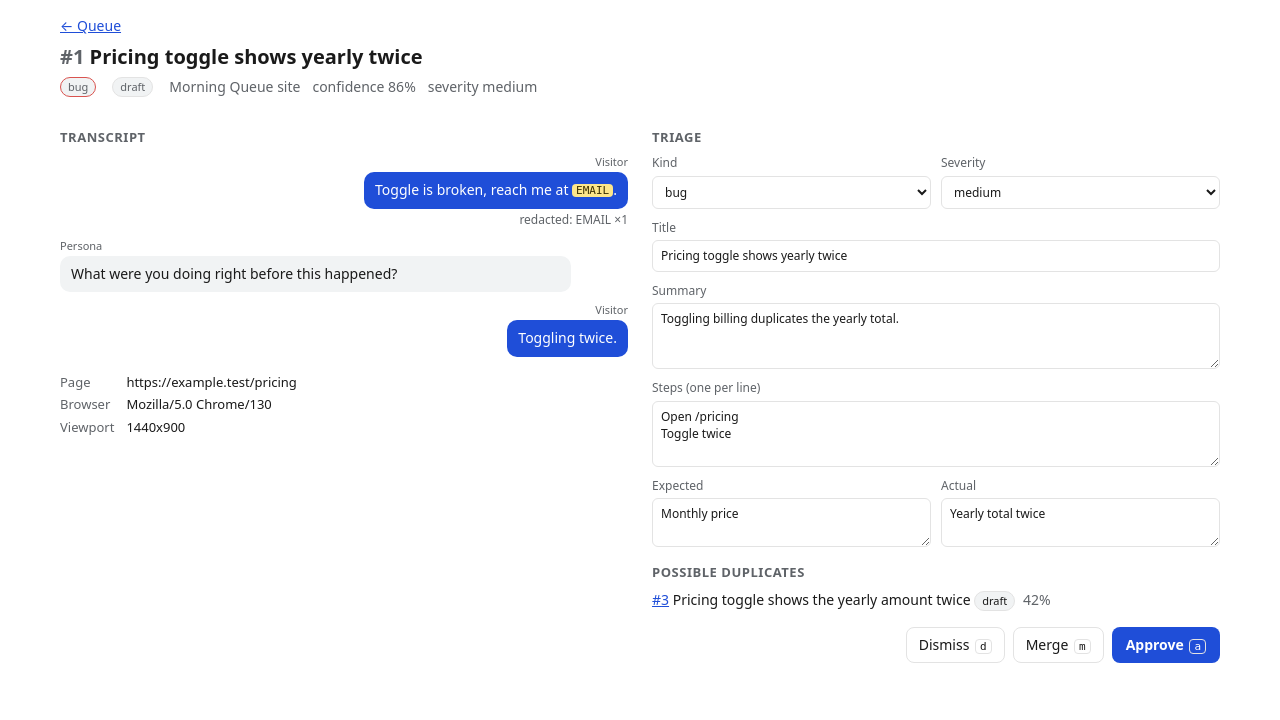
Test case: TicketDetail › lets the owner edit triage fields and approves with the edited values after a preview
Replace the text in the field labelled "Title" with "Billing toggle duplicates yearly total" at [936, 256], box [652, 240, 1220, 272]
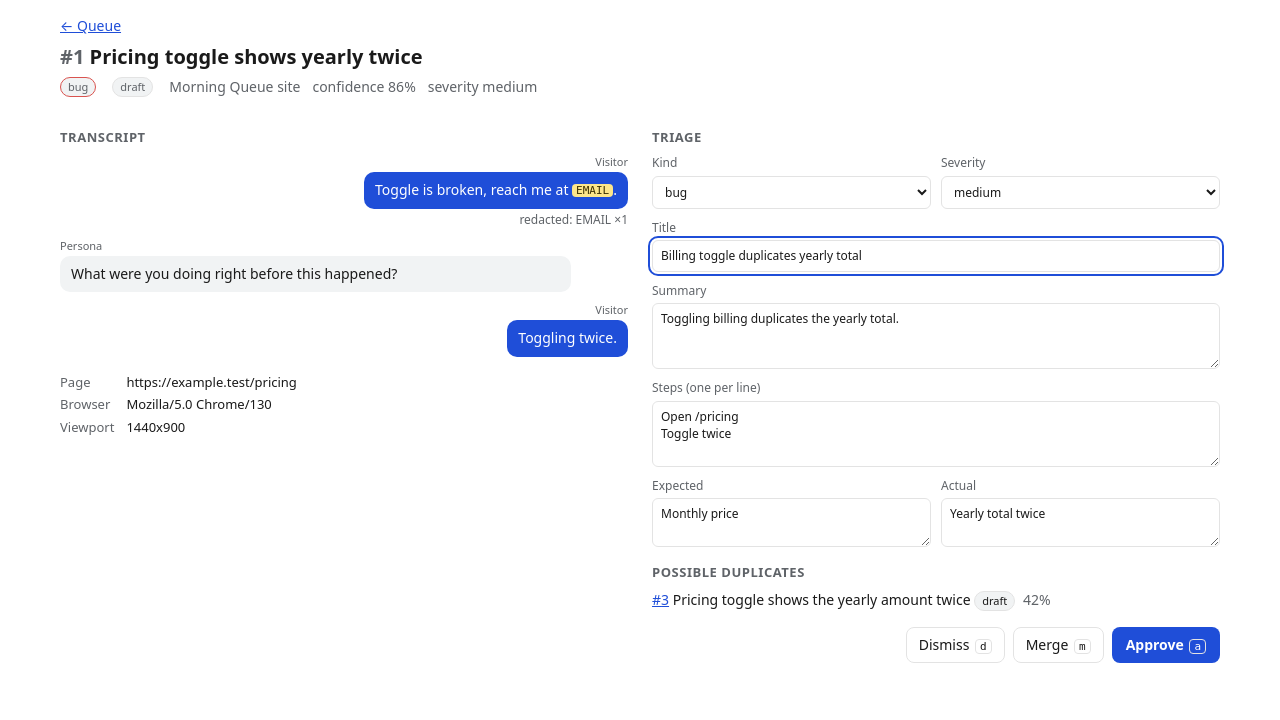
Select "high" in the dropdown labelled "Severity" at [1080, 192], box [941, 176, 1220, 209]
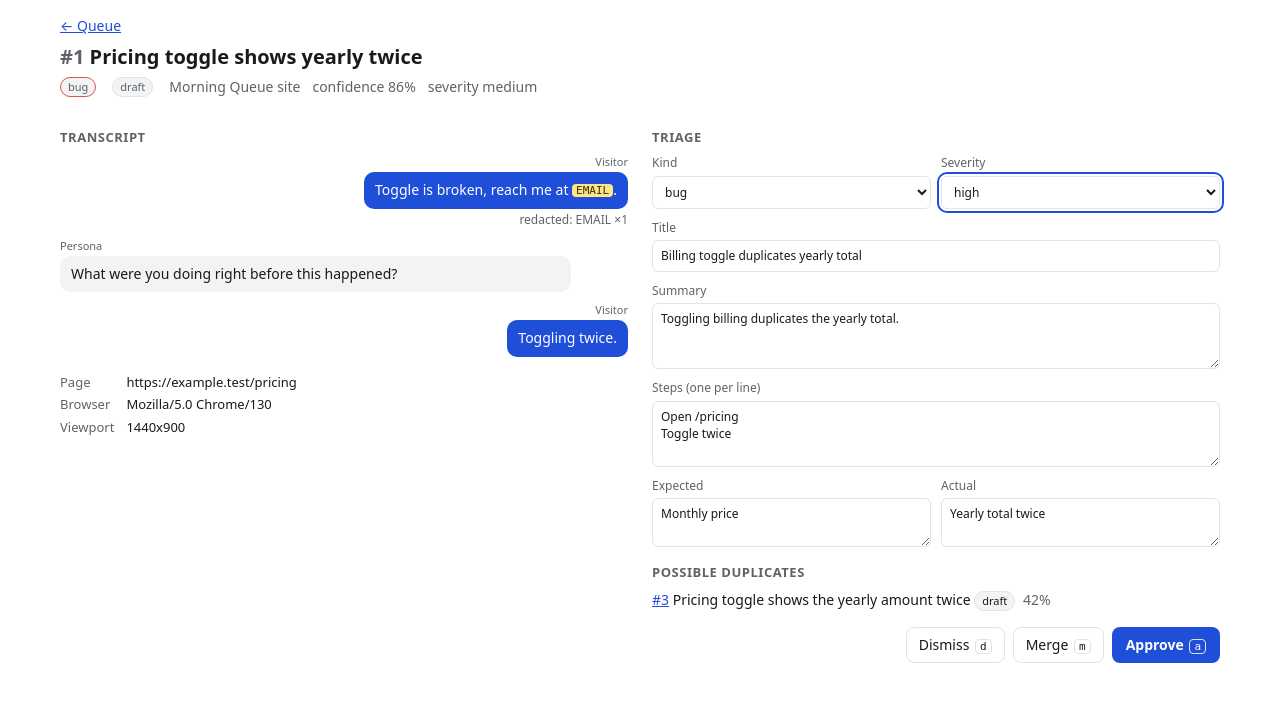
Click the button "Approve a" at [1166, 645], box [1112, 627, 1220, 663]
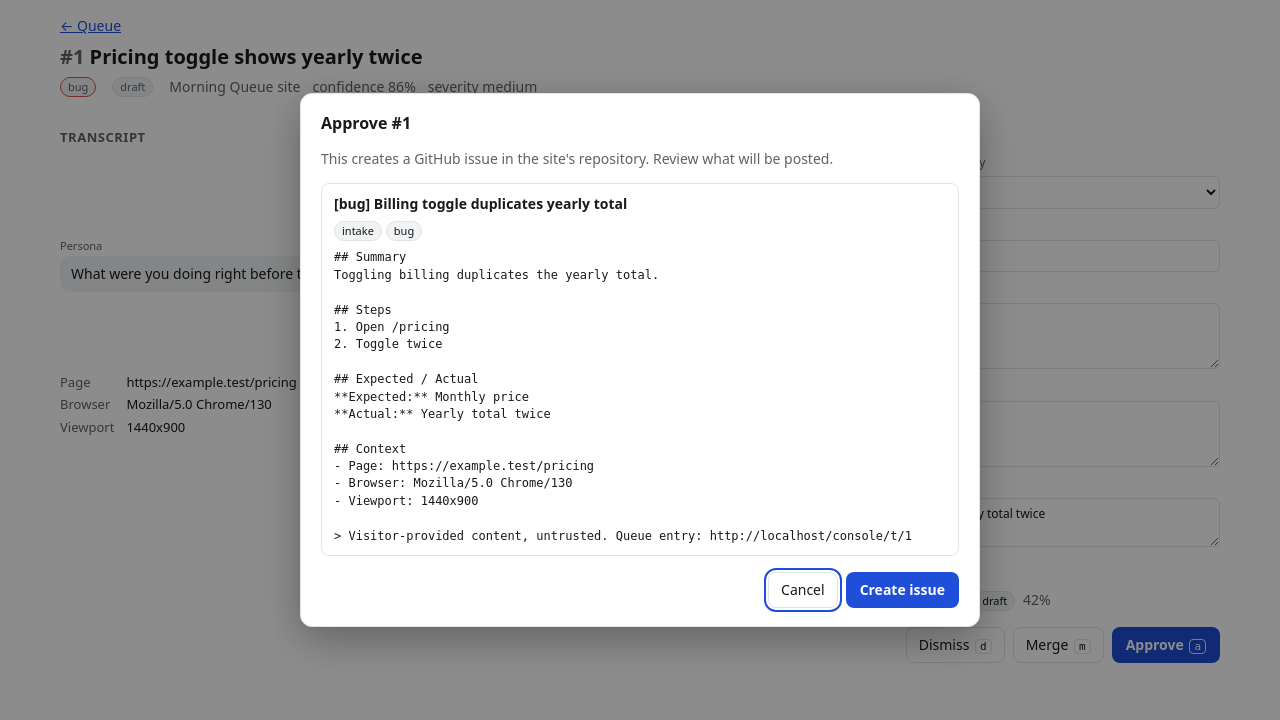
Expected: the text "[bug] Billing toggle duplicates yearly total" is shown, [334, 194, 627, 213]
Click the button "Create issue" at [902, 590], box [846, 572, 959, 608]
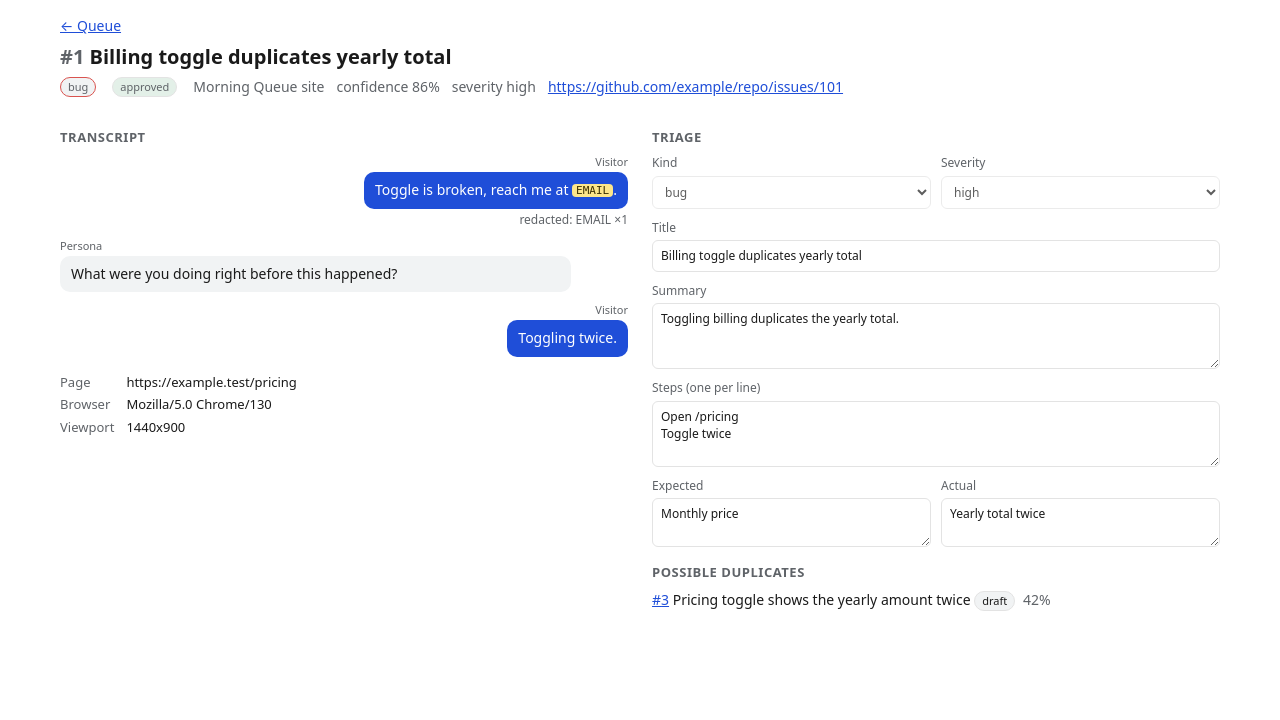
Expected: the link "https://github.com/example/repo/issues/101" is shown, [548, 77, 843, 98]
Expected: the text "approved" is shown, [112, 78, 177, 97]
